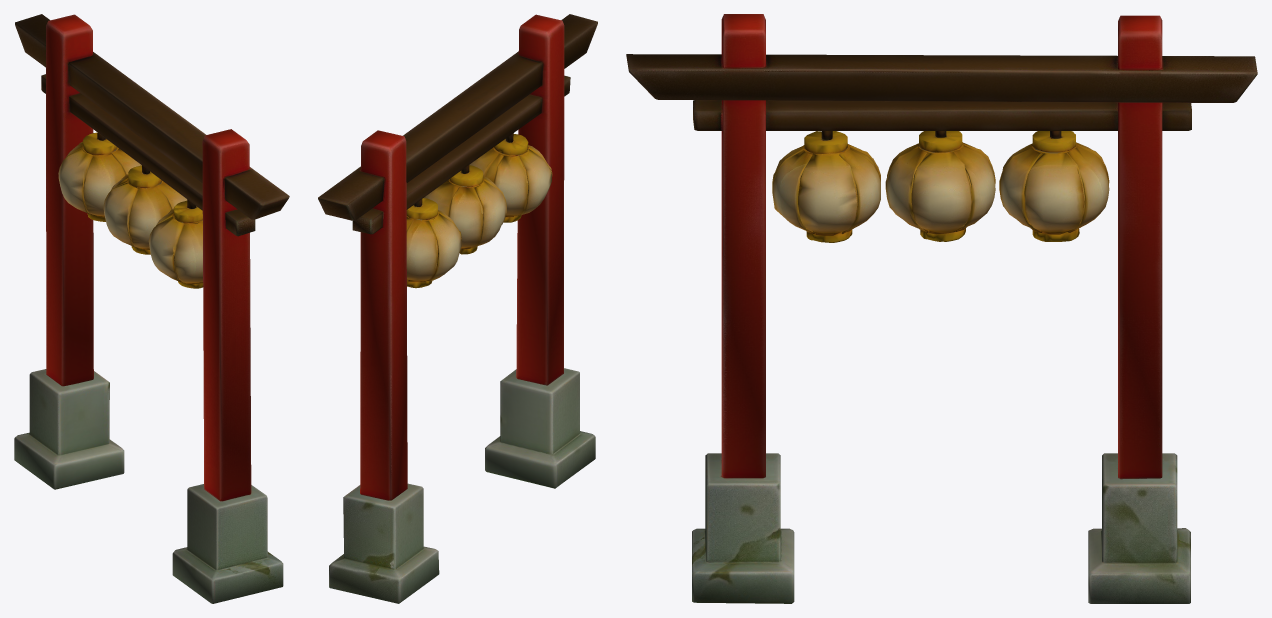
Rendered from tripo_convert_d8e63554-777f-4121-9048-5d72cea4f49c.fbx.
3 renders of one model, left to right at view 1: azimuth 30°, elevation 25°; view 2: azimuth 150°, elevation 25°; view 3: azimuth 270°, elevation 25°, orthographic. The views are drawn at different scales.
Parts seen in each view (by area): view 1: tripo_node_d8e63554; view 2: tripo_node_d8e63554; view 3: tripo_node_d8e63554.
Boxes of the visible parts, left/top/right/bottom form: tripo_node_d8e63554: left=14, top=14, right=289, bottom=603; tripo_node_d8e63554: left=318, top=14, right=597, bottom=603; tripo_node_d8e63554: left=626, top=14, right=1257, bottom=603.
Size of the model in its own units: 0.1738 by 0.9785 by 0.998.
1 material, 1 textured.
